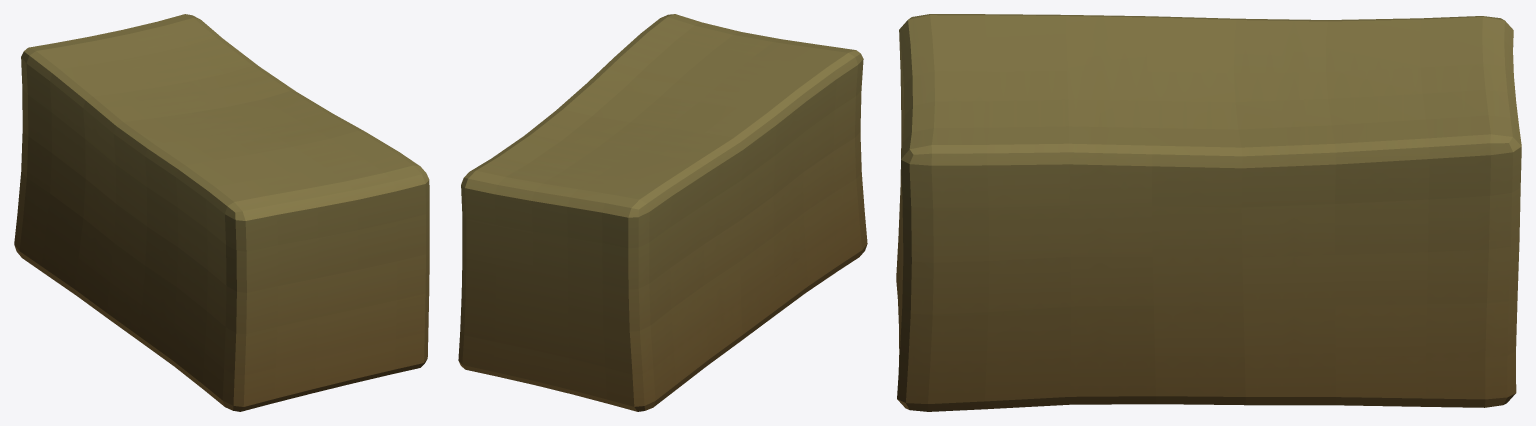
File: SM_Brick1.fbx
3 renders of one model, left to right at view 1: azimuth 30°, elevation 25°; view 2: azimuth 150°, elevation 25°; view 3: azimuth 270°, elevation 25°, orthographic. The views are drawn at different scales.
Visible parts, largest first — view 1: SM_Brick1; view 2: SM_Brick1; view 3: SM_Brick1.
Part boxes in pixels (x1,y1,x2,y2): SM_Brick1: (14, 14, 429, 411); SM_Brick1: (458, 14, 867, 411); SM_Brick1: (896, 14, 1521, 411).
Size of the model in its own units: 50.92 by 49.35 by 99.39.
